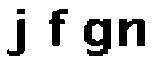f: (45, 4, 72, 48)
g: (80, 16, 114, 57)
j: (4, 6, 30, 60)
n: (118, 15, 149, 49)
